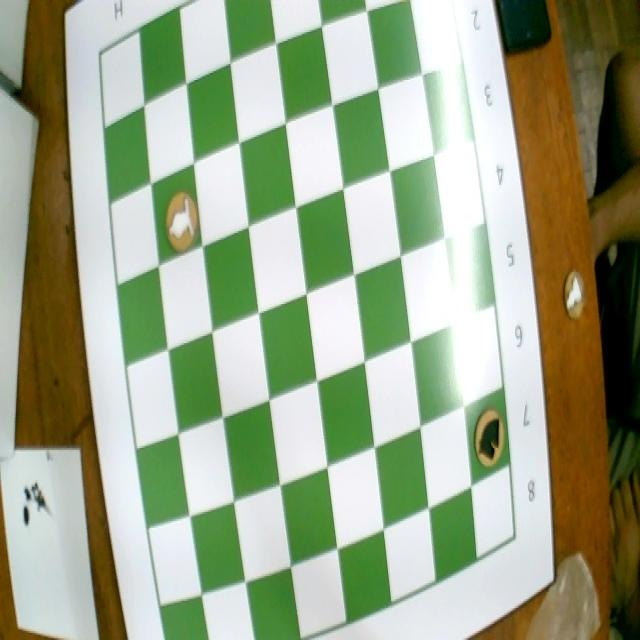chess-pieces: (161, 183, 202, 256), (469, 403, 508, 473)
